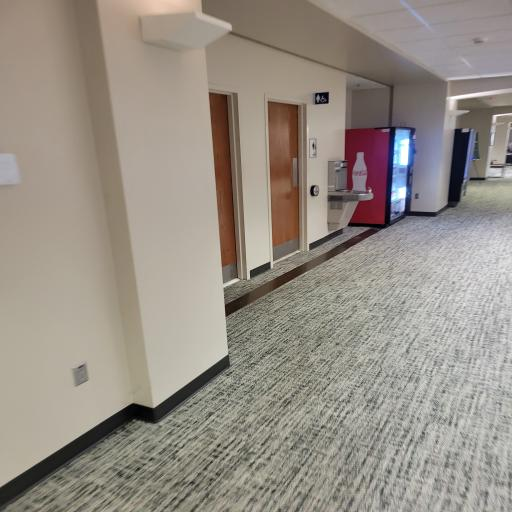door: (268, 96, 310, 269), (208, 86, 237, 286)
handicap push button: (309, 179, 322, 202)
outlet: (70, 357, 93, 390)
vending machine: (346, 124, 418, 229), (448, 125, 477, 206)
water fountain: (325, 158, 374, 232)
